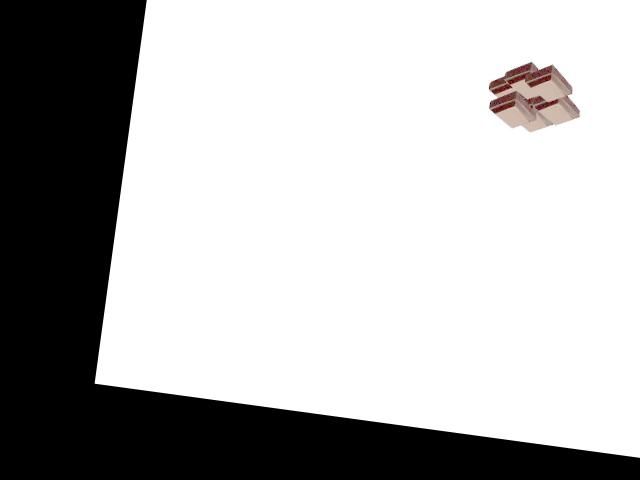chocolate: (480, 59, 584, 141)
